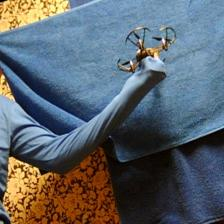drone: (116, 24, 179, 74)
